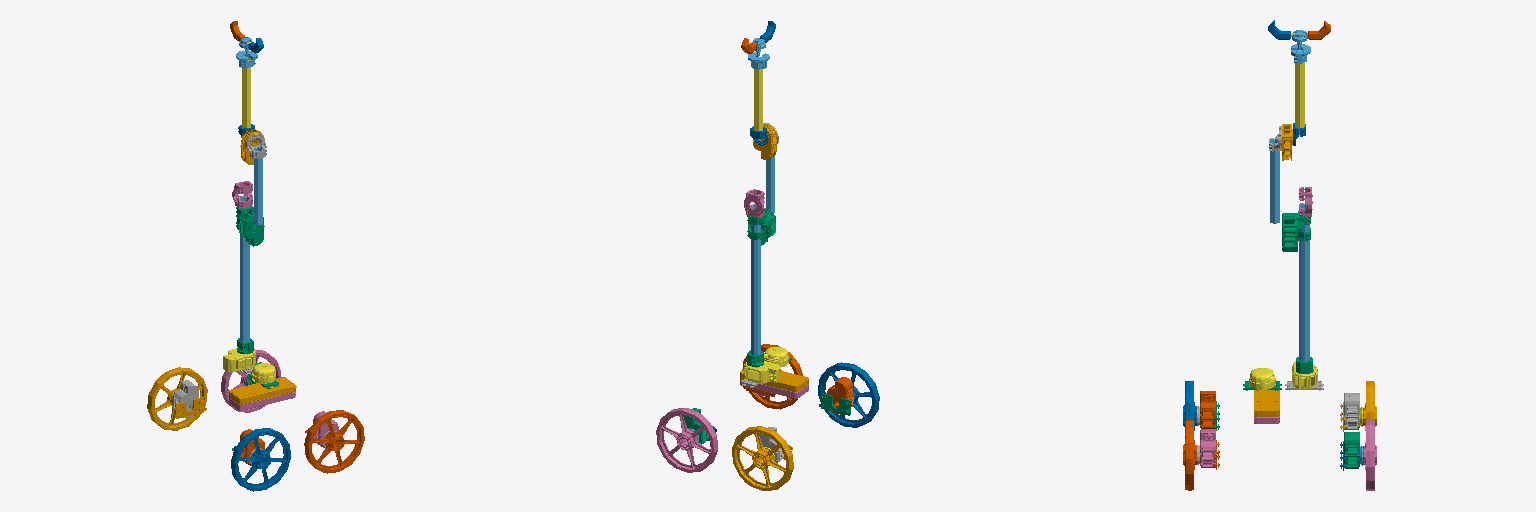
--- Facts derived from the render (not from the file) ---
The picture shows the robot from 3 angles, left to right: view 1: azimuth 30°, elevation 25°; view 2: azimuth 150°, elevation 25°; view 3: azimuth 270°, elevation 25°; orthographic projection.
Model StickBot_1 with 44 links and 43 joints (9 revolute, 1 continuous, 33 fixed), rooted at base_link, posed every joint at zero.
Links seen in each view (by area): view 1: pp_2074_08_1, pp_2074_08_3, pp_2074_08_2, tubepar_19Z_0, pp_2084_01_1, pp_2074_08_0, hebi_x8_16_12Z_0, tubepar_4Z_0, hebi_x8_16_20Z_0, tubepar_18Z_0; view 2: pp_2074_08_2, pp_2074_08_0, pp_2074_08_1, tubepar_19Z_0, hebi_x8_16_20Z_0, pp_2074_08_3, pp_2084_01_1, tubepar_18Z_0; view 3: tubepar_19Z_0, pp_2074_08_3, tubepar_4Z_0, pp_2074_08_0, pp_2084_01_1, tubepar_18Z_0, hebi_x8_16_12Z_0, hebi_x8_16_1Z_0, DiffDriveBase/RearRight, hebi_x8_16_16Z_0, hebi_x8_16_2Z_0.
Boxes of the visible links, bbox=[...] form: pp_2074_08_1: bbox=[231, 428, 290, 491]; pp_2074_08_3: bbox=[304, 410, 364, 473]; pp_2074_08_2: bbox=[147, 367, 207, 430]; tubepar_19Z_0: bbox=[240, 197, 249, 342]; pp_2084_01_1: bbox=[229, 377, 296, 404]; pp_2074_08_0: bbox=[221, 349, 280, 412]; hebi_x8_16_12Z_0: bbox=[239, 209, 264, 246]; tubepar_4Z_0: bbox=[254, 147, 262, 225]; hebi_x8_16_20Z_0: bbox=[223, 348, 255, 371]; tubepar_18Z_0: bbox=[242, 57, 250, 127]; pp_2074_08_2: bbox=[732, 426, 793, 490]; pp_2074_08_0: bbox=[656, 408, 717, 472]; pp_2074_08_1: bbox=[818, 362, 879, 427]; tubepar_19Z_0: bbox=[751, 206, 760, 354]; hebi_x8_16_20Z_0: bbox=[744, 361, 779, 383]; pp_2074_08_3: bbox=[742, 344, 802, 409]; pp_2084_01_1: bbox=[740, 369, 808, 391]; tubepar_18Z_0: bbox=[754, 69, 762, 130]; tubepar_19Z_0: bbox=[1299, 204, 1309, 361]; pp_2074_08_3: bbox=[1183, 419, 1196, 490]; tubepar_4Z_0: bbox=[1270, 139, 1279, 223]; pp_2074_08_0: bbox=[1363, 420, 1376, 490]; pp_2084_01_1: bbox=[1254, 390, 1279, 416]; tubepar_18Z_0: bbox=[1295, 56, 1304, 133]; hebi_x8_16_12Z_0: bbox=[1282, 213, 1297, 251]; hebi_x8_16_1Z_0: bbox=[1200, 429, 1215, 467]; DiffDriveBase/RearRight: bbox=[1200, 391, 1215, 428]; hebi_x8_16_16Z_0: bbox=[1344, 393, 1359, 429]; hebi_x8_16_2Z_0: bbox=[1344, 432, 1359, 468].
Bounding box of the posed robot: 0.4631 × 0.5495 × 1.4 m (x, y, z).
38 mesh visuals loaded from 28 distinct referenced files (24 binary STL); not drawn: 4 (reference not matched to a file when rendering).

URDF robot description (StickBot_1):
<?xml version="1.0" ?>
<robot name="StickBot_1">
  <!--Joints-->
  <joint name="base_link_to_a_2132_01_5Z_0" type="fixed">
    <parent link="base_link"/>
    <child link="a_2132_01_5Z_0"/>
  </joint>
  <joint name="a_2132_01_5Z_0_to_pp_2084_01_0" type="fixed">
    <parent link="a_2132_01_5Z_0"/>
    <child link="pp_2084_01_0"/>
    <origin rpy="0.0 -3.57068198074e-17 0.0" xyz="-5.78648230435e-16 -0.0375 0.0589153"/>
  </joint>
  <joint name="pp_2084_01_0_to_pp_2084_01_1" type="fixed">
    <parent link="pp_2084_01_0"/>
    <child link="pp_2084_01_1"/>
    <origin rpy="0.0 -0.0 6.22674078412e-50" xyz="8.12409083276e-19 -8.20472662559e-19 0.021"/>
  </joint>
  <joint name="a_2132_01_5Z_0_to_a_2043_01_0" type="fixed">
    <parent link="a_2132_01_5Z_0"/>
    <child link="a_2043_01_0"/>
    <origin rpy="0.0 -3.37465499326e-15 -6.12323399574e-17" xyz="-3.99679288865e-18 0.07 0.1317625"/>
  </joint>
  <joint name="a_2043_01_0_to_hebi_x8_16_20Z_0" type="fixed">
    <parent link="a_2043_01_0"/>
    <child link="hebi_x8_16_20Z_0"/>
    <origin rpy="0.0 -6.12323399574e-17 -3.14159265359" xyz="-2.68108607925e-17 -1.65959587488e-33 0.0047752"/>
  </joint>
  <joint name="Turret/Base/X8_16" type="revolute">
    <parent link="hebi_x8_16_20Z_0"/>
    <child link="a_2074_01_13Z_0"/>
    <origin rpy="0.0 1.18329135783e-30 -3.14159265359" xyz="-1.08634158951e-24 -2.84217094304e-17 0.04505"/>
    <axis xyz="-7.88860905221e-31 6.12323399574e-17 1.0"/>
    <dynamics damping="0.5" friction="0.06"/>
    <limit effort="100" lower="-2.14e9" upper="+2.14e9" velocity="100"/>
  </joint>
  <gazebo reference="Turret/Base/X8_16">
    <implicitSpringDamper>True</implicitSpringDamper>
  </gazebo>
  <joint name="a_2074_01_13Z_0_to_tubepar_19Z_0" type="fixed">
    <parent link="a_2074_01_13Z_0"/>
    <child link="tubepar_19Z_0"/>
    <origin rpy="-1.57079632679 -0.0 5.67339602409e-33" xyz="1.31411562278e-17 1.85506515547e-16 0.0125"/>
  </joint>
  <joint name="tubepar_19Z_0_to_a_2089_01_14Z_0" type="fixed">
    <parent link="tubepar_19Z_0"/>
    <child link="a_2089_01_14Z_0"/>
    <origin rpy="-6.12323399574e-17 -0.0 1.57079632679" xyz="2.01948391737e-31 -0.425 1.12103877146e-47"/>
  </joint>
  <joint name="a_2089_01_14Z_0_to_hebi_x8_16_12Z_0" type="fixed">
    <parent link="a_2089_01_14Z_0"/>
    <child link="hebi_x8_16_12Z_0"/>
    <origin rpy="3.14159265359 -1.18329136e-30 0.0" xyz="-0.014 -1.07158121718e-18 -0.02"/>
  </joint>
  <joint name="Arm/Shoulder/X8_16" type="revolute">
    <parent link="hebi_x8_16_12Z_0"/>
    <child link="a_2038_02_11Z_0"/>
    <origin rpy="1.51632209646e-62 1.18329136e-30 3.14159265359" xyz="-1.40799588069e-31 -2.91639355579e-17 0.04505"/>
    <axis xyz="-2.02888622329e-31 7.64209001933e-30 1.0"/>
    <dynamics damping="0.5" friction="0.06"/>
    <limit effort="100" lower="-2.14e9" upper="+2.14e9" velocity="100"/>
  </joint>
  <gazebo reference="Arm/Shoulder/X8_16">
    <implicitSpringDamper>True</implicitSpringDamper>
  </gazebo>
  <joint name="a_2038_02_11Z_0_to_tubepar_4Z_0" type="fixed">
    <parent link="a_2038_02_11Z_0"/>
    <child link="tubepar_4Z_0"/>
    <origin rpy="1.57079632679 -1.57079632679 0.0" xyz="0.0135 1.35017697283e-18 0.02"/>
  </joint>
  <joint name="tubepar_4Z_0_to_a_2039_02_9Z_0" type="fixed">
    <parent link="tubepar_4Z_0"/>
    <child link="a_2039_02_9Z_0"/>
    <origin rpy="1.57079632679 2.50240867501e-14 -1.57079632679" xyz="-2.18952885051e-47 -0.25 -9.99999998558e-24"/>
  </joint>
  <joint name="a_2039_02_9Z_0_to_hebi_x5_9_10Z_0" type="fixed">
    <parent link="a_2039_02_9Z_0"/>
    <child link="hebi_x5_9_10Z_0"/>
    <origin rpy="1.22464679915e-16 1.04083409e-17 2.50240867501e-14" xyz="0.014 3.34009046003e-16 0.02"/>
  </joint>
  <joint name="Arm/Elbow/X5_9" type="revolute">
    <parent link="hebi_x5_9_10Z_0"/>
    <child link="a_2038_02_17Z_0"/>
    <origin rpy="2.0448405016e-48 -2.77555756e-17 0.0" xyz="-3.23178984945e-19 -3.14850699177e-18 0.03105"/>
    <axis xyz="1.73472347e-17 5.71153784307e-30 1.0"/>
    <dynamics damping="0.6" friction="0.06"/>
    <limit effort="100" lower="-2.14e9" upper="+2.14e9" velocity="100"/>
  </joint>
  <gazebo reference="Arm/Elbow/X5_9">
    <implicitSpringDamper>True</implicitSpringDamper>
  </gazebo>
  <joint name="a_2038_02_17Z_0_to_tubepar_18Z_0" type="fixed">
    <parent link="a_2038_02_17Z_0"/>
    <child link="tubepar_18Z_0"/>
    <origin rpy="1.57079632679 -1.57079632679 0.0" xyz="0.0135 1.11373125466e-19 0.02"/>
  </joint>
  <joint name="tubepar_18Z_0_to_a_2119_01_15Z_0" type="fixed">
    <parent link="tubepar_18Z_0"/>
    <child link="a_2119_01_15Z_0"/>
    <origin rpy="1.57079632679 -4.58591992252e-48 0.0" xyz="2.7686186826e-18 -0.25 -1.00000003895e-23"/>
  </joint>
  <joint name="a_2119_01_15Z_0_to_hebi_x5_1_8Z_0" type="fixed">
    <parent link="a_2119_01_15Z_0"/>
    <child link="hebi_x5_1_8Z_0"/>
    <origin rpy="0.0 1.04083409e-17 -2.37066402887e-33" xyz="-2.255140511e-19 7.96030419446e-19 0.013"/>
  </joint>
  <joint name="Gripper/Wrist/X5_1" type="revolute">
    <parent link="hebi_x5_1_8Z_0"/>
    <child link="GRIPPER_CORE_0"/>
    <origin rpy="1.57079632679 2.77555756e-17 3.14159265359" xyz="-5.77052294832e-17 -3.14850699177e-18 0.03105"/>
    <axis xyz="-1.23259516441e-32 1.0 -2.09048139884e-29"/>
    <dynamics damping="0.5" friction="0.06"/>
    <limit effort="100" lower="-2.14e9" upper="+2.14e9" velocity="100"/>
  </joint>
  <gazebo reference="Gripper/Wrist/X5_1">
    <implicitSpringDamper>True</implicitSpringDamper>
  </gazebo>
  <joint name="Gripper_Joint_2" type="revolute">
    <parent link="GRIPPER_CORE_0"/>
    <child link="pm_2221_01_2_0"/>
    <origin rpy="3.14159265359 -0.0 3.14159265359" xyz="-0.0125 0.0115 2.19793342467e-19"/>
    <axis xyz="-4.0841087401e-47 -3.3134226533e-15 1.0"/>
    <dynamics damping="0.5" friction="0.06"/>
    <limit effort="100" lower="-2e6" upper="+2e6" velocity="100"/>
  </joint>
  <gazebo reference="Gripper_Joint_2">
    <implicitSpringDamper>True</implicitSpringDamper>
  </gazebo>
  <joint name="pm_2221_01_2_0_to_pm_2371_01_1_0" type="fixed">
    <parent link="pm_2221_01_2_0"/>
    <child link="pm_2371_01_1_0"/>
    <origin rpy="3.14159265359 6.12323399574e-17 1.57079632679" xyz="0.03 -1.05409565011e-34 -7.97872810003e-20"/>
  </joint>
  <joint name="Gripper_Joint_1" type="revolute">
    <parent link="GRIPPER_CORE_0"/>
    <child link="pm_2221_01_2_1"/>
    <origin rpy="0.0 -0.0 0.0" xyz="0.0125 0.0115 1.11379248701e-19"/>
    <axis xyz="-4.0841087401e-47 3.3134226533e-15 1.0"/>
    <dynamics damping="0.5" friction="0.06"/>
    <limit effort="100" lower="-2e6" upper="+2e6" velocity="100"/>
  </joint>
  <gazebo reference="Gripper_Joint_1">
    <implicitSpringDamper>True</implicitSpringDamper>
  </gazebo>
  <joint name="pm_2221_01_2_1_to_pm_2371_01_1_1" type="fixed">
    <parent link="pm_2221_01_2_1"/>
    <child link="pm_2371_01_1_1"/>
    <origin rpy="3.14159265359 6.12323399574e-17 1.57079632679" xyz="0.03 6.34213802085e-34 7.98072809997e-20"/>
  </joint>
  <joint name="tubepar_19Z_0_to_a_2089_01_6Z_0" type="fixed">
    <parent link="tubepar_19Z_0"/>
    <child link="a_2089_01_6Z_0"/>
    <origin rpy="-3.14159265359 -0.0 1.57079632679" xyz="2.01948391737e-31 -0.5 0.0"/>
  </joint>
  <joint name="a_2089_01_6Z_0_to_hebi_x5_9_7Z_0" type="fixed">
    <parent link="a_2089_01_6Z_0"/>
    <child link="hebi_x5_9_7Z_0"/>
    <origin rpy="-3.14159265359 -1.04083409e-17 3.14159265359" xyz="-0.014 -1.07158121718e-18 -0.02"/>
  </joint>
  <joint name="a_2132_01_5Z_0_to_a_2043_01_1" type="fixed">
    <parent link="a_2132_01_5Z_0"/>
    <child link="a_2043_01_1"/>
    <origin rpy="-1.57079632679 1.57079632679 0.0" xyz="0.13 0.1778 -0.025400756766"/>
  </joint>
  <joint name="a_2043_01_1_to_hebi_x8_16_2Z_0" type="fixed">
    <parent link="a_2043_01_1"/>
    <child link="hebi_x8_16_2Z_0"/>
    <origin rpy="1.49975978266e-32 -6.12323399574e-17 3.14159265359" xyz="4.67700711639e-17 9.38208807873e-16 0.0047752"/>
  </joint>
  <joint name="DiffDriveBase/FrontLeft/X8_16" type="revolute">
    <parent link="hebi_x8_16_2Z_0"/>
    <child link="pm_2155_01_0"/>
    <origin rpy="-7.49879891331e-33 1.18329135783e-30 3.14159265359" xyz="-2.75851691508e-18 -1.73288773498e-16 0.04505"/>
    <axis xyz="6.12323399574e-17 6.12323399574e-17 1.0"/>
    <dynamics damping="0.5" friction="0.06"/>
    <limit effort="100" lower="-2.14e9" upper="+2.14e9" velocity="100"/>
  </joint>
  <gazebo reference="DiffDriveBase/FrontLeft/X8_16">
    <implicitSpringDamper>True</implicitSpringDamper>
  </gazebo>
  <joint name="pm_2155_01_0_to_pp_2074_08_0" type="fixed">
    <parent link="pm_2155_01_0"/>
    <child link="pp_2074_08_0"/>
    <origin rpy="6.30106823421e-15 5.72153003001e-15 -0.78539816407" xyz="5.51091059616e-19 1.14237928781e-16 0.009"/>
  </joint>
  <joint name="a_2132_01_5Z_0_to_a_2043_01_2" type="fixed">
    <parent link="a_2132_01_5Z_0"/>
    <child link="a_2043_01_2"/>
    <origin rpy="1.57079632679 1.57079632679 0.0" xyz="-0.13 -0.1778 -0.023190956766"/>
  </joint>
  <joint name="a_2043_01_2_to_DiffDriveBase/RearRight" type="fixed">
    <parent link="a_2043_01_2"/>
    <child link="DiffDriveBase/RearRight"/>
    <origin rpy="-1.49975978266e-32 -6.12323399574e-17 3.14159265359" xyz="-6.52063401807e-18 8.5557524961e-17 0.0047752"/>
  </joint>
  <joint name="DiffDriveBase/RearRight" type="continuous">
    <parent link="DiffDriveBase/RearRight"/>
    <child link="pm_2155_01_1"/>
    <origin rpy="7.49879891331e-33 1.18329135783e-30 3.14159265359" xyz="-2.75851691508e-18 -3.11802263455e-17 0.04505"/>
    <axis xyz="6.12323399574e-17 6.12323399574e-17 1.0"/>
    <dynamics damping="0.5" friction="0.06"/>
    <limit effort="20" velocity="30"/>
    <dynamics damping="0.5" friction="0.5"/>
  </joint>
  <gazebo reference="DiffDriveBase/RearRight">
    <implicitSpringDamper>True</implicitSpringDamper>
  </gazebo>
  <joint name="pm_2155_01_1_to_pp_2074_08_1" type="fixed">
    <parent link="pm_2155_01_1"/>
    <child link="pp_2074_08_1"/>
    <origin rpy="-2.75783606318e-15 2.60231890953e-15 -0.785398163616" xyz="4.10380473842e-18 5.51091059616e-19 0.009"/>
  </joint>
  <joint name="a_2132_01_5Z_0_to_a_2043_01_3" type="fixed">
    <parent link="a_2132_01_5Z_0"/>
    <child link="a_2043_01_3"/>
    <origin rpy="-1.57079632679 1.57079632679 0.0" xyz="-0.13 0.1778 -0.025400756766"/>
  </joint>
  <joint name="a_2043_01_3_to_hebi_x8_16_16Z_0" type="fixed">
    <parent link="a_2043_01_3"/>
    <child link="hebi_x8_16_16Z_0"/>
    <origin rpy="-3.31635770885e-45 -6.12323399574e-17 3.14159265359" xyz="4.67700711639e-17 -9.37624014534e-16 0.0047752"/>
  </joint>
  <joint name="DiffDriveBase/RearLeft/X8_16" type="revolute">
    <parent link="hebi_x8_16_16Z_0"/>
    <child link="pm_2155_01_2"/>
    <origin rpy="1.65817885443e-45 1.18329135783e-30 3.14159265359" xyz="-2.75851691508e-18 1.10928320807e-16 0.04505"/>
    <axis xyz="6.12323399574e-17 6.12323399574e-17 1.0"/>
    <dynamics damping="0.5" friction="0.06"/>
    <limit effort="100" lower="-2.14e9" upper="+2.14e9" velocity="100"/>
  </joint>
  <gazebo reference="DiffDriveBase/RearLeft/X8_16">
    <implicitSpringDamper>True</implicitSpringDamper>
  </gazebo>
  <joint name="pm_2155_01_2_to_pp_2074_08_2" type="fixed">
    <parent link="pm_2155_01_2"/>
    <child link="pp_2074_08_2"/>
    <origin rpy="-3.61210627989e-15 6.93336817517e-16 -0.78539816364" xyz="5.51091059616e-19 -1.13135746662e-16 0.009"/>
  </joint>
  <joint name="a_2132_01_5Z_0_to_a_2043_01_4" type="fixed">
    <parent link="a_2132_01_5Z_0"/>
    <child link="a_2043_01_4"/>
    <origin rpy="0.0 -3.37465499326e-15 -6.12323399574e-17" xyz="-1.11022202463e-17 -0.05 0.1317625"/>
  </joint>
  <joint name="a_2043_01_4_to_rplidar_a2_0" type="fixed">
    <parent link="a_2043_01_4"/>
    <child link="rplidar_a2_0"/>
    <origin rpy="0.0 -6.12323399574e-17 -3.14159265359" xyz="-2.70533019508e-17 -1.6744411143e-33 0.0047752"/>
  </joint>
  <joint name="a_2132_01_5Z_0_to_a_2043_01_5" type="fixed">
    <parent link="a_2132_01_5Z_0"/>
    <child link="a_2043_01_5"/>
    <origin rpy="1.57079632679 1.57079632679 0.0" xyz="0.13 -0.1778 -0.023190956766"/>
  </joint>
  <joint name="a_2043_01_5_to_hebi_x8_16_1Z_0" type="fixed">
    <parent link="a_2043_01_5"/>
    <child link="hebi_x8_16_1Z_0"/>
    <origin rpy="-1.49975978266e-32 -6.12323399574e-17 3.14159265359" xyz="-2.96792033927e-18 8.5557524961e-17 0.0047752"/>
  </joint>
  <joint name="DiffDriveBase/FrontRight/X8_16" type="revolute">
    <parent link="hebi_x8_16_1Z_0"/>
    <child link="pm_2155_01_3"/>
    <origin rpy="7.49879891331e-33 1.18329135783e-30 3.14159265359" xyz="-2.75851691508e-18 -3.11802263455e-17 0.04505"/>
    <axis xyz="6.12323399574e-17 6.12323399574e-17 1.0"/>
    <dynamics damping="0.5" friction="0.06"/>
    <limit effort="100" lower="-2.14e9" upper="+2.14e9" velocity="100"/>
  </joint>
  <gazebo reference="DiffDriveBase/FrontRight/X8_16">
    <implicitSpringDamper>True</implicitSpringDamper>
  </gazebo>
  <joint name="pm_2155_01_3_to_pp_2074_08_3" type="fixed">
    <parent link="pm_2155_01_3"/>
    <child link="pp_2074_08_3"/>
    <origin rpy="6.83855313154e-16 4.65623150509e-15 -0.785398163616" xyz="5.51091059616e-19 5.51091059616e-19 0.009"/>
  </joint>
  <!--Links-->
  <link name="base_link">
    <!--Transformation from CyPhy2CAD global reference frame to base_link-->
    <CyPhy2CAD>
      <CADAssembly_metrics>
        <RotationMatrix>
          <Row>
            <Column Value="1.0"/>
            <Column Value="0.0"/>
            <Column Value="0.0"/>
          </Row>
          <Row>
            <Column Value="0.0"/>
            <Column Value="1.0"/>
            <Column Value="0.0"/>
          </Row>
          <Row>
            <Column Value="0.0"/>
            <Column Value="0.0"/>
            <Column Value="1.0"/>
          </Row>
        </RotationMatrix>
        <Translation X="1e-20" Y="1e-20" Z="1e-20"/>
      </CADAssembly_metrics>
    </CyPhy2CAD>
  </link>
  <link name="pm_2155_01_0">
    <visual>
      <origin rpy="0 0 0" xyz="-0.00099182129 -0.0071643037 -0.000236828"/>
      <geometry>
        <mesh filename="package://stickbot_generated_urdf/meshes/pm_2155_01_prt.stl" scale="0.001 0.001 0.001"/>
      </geometry>
    </visual>
    <collision>
      <origin rpy="0 0 0" xyz="-0.00099182129 -0.0071643037 -0.000236828"/>
      <geometry>
        <mesh filename="package://stickbot_generated_urdf/meshes/pm_2155_01_prt.stl" scale="0.001 0.001 0.001"/>
      </geometry>
    </collision>
    <inertial>
      <origin rpy="0 0 0" xyz="1.34037442319e-07 1.11051366795e-07 0.00499989583184"/>
      <mass value="0.052674179644478125"/>
      <inertia ixx="1.14786537077e-05" ixy="0.0" ixz="0.0" iyy="1.14786271535e-05" iyz="0.0" izz="2.18768701014e-05"/>
    </inertial>
  </link>
  <gazebo reference="pm_2155_01_0">
    <selfCollide>True</selfCollide>
    <material>Gazebo/Grey</material>
    <mu1>0.1</mu1>
    <mu2>0.1</mu2>
    <kp>10000000</kp>
    <kd>1</kd>
    <minDepth>0</minDepth>
    <maxVel>100</maxVel>
  </gazebo>
  <link name="a_2043_01_2">
    <visual>
      <origin rpy="0 0 0" xyz="-6.52063401807e-18 8.5557524961e-17 0.0047752"/>
      <geometry>
        <mesh filename="package://stickbot_generated_urdf/meshes/a_2043_01_prt.stl" scale="0.001 0.001 0.001"/>
      </geometry>
    </visual>
    <collision>
      <origin rpy="0 0 0" xyz="-6.52063401807e-18 8.5557524961e-17 0.0047752"/>
      <geometry>
        <mesh filename="package://stickbot_generated_urdf/meshes/a_2043_01_prt.stl" scale="0.001 0.001 0.001"/>
      </geometry>
    </collision>
    <inertial>
      <origin rpy="0 0 0" xyz="0.00139419949295 8.5557524961e-17 0.00184329510899"/>
      <mass value="0.06272938391183215"/>
      <inertia ixx="7.22571415296e-05" ixy="2.96268938105e-10" ixz="-5.68510520871e-08" iyy="1.34631068457e-05" iyz="0.0" izz="8.48613385518e-05"/>
    </inertial>
  </link>
  <gazebo reference="a_2043_01_2">
    <selfCollide>True</selfCollide>
    <material>Gazebo/Black</material>
    <mu1>0.1</mu1>
    <mu2>0.1</mu2>
    <kp>10000000</kp>
    <kd>1</kd>
    <minDepth>0.0005</minDepth>
    <maxVel>100</maxVel>
  </gazebo>
  <link name="tubepar_18Z_0">
    <visual>
      <origin rpy="0 0 0" xyz="2.7686186826e-18 -0.25 -1.61232343584e-23"/>
      <geometry>
        <mesh filename="package://stickbot_generated_urdf/meshes/tubepar_18z_prt.stl" scale="0.001 0.001 0.001"/>
      </geometry>
    </visual>
    <collision>
      <origin rpy="0 0 0" xyz="2.7686186826e-18 -0.25 -1.61232343584e-23"/>
      <geometry>
        <mesh filename="package://stickbot_generated_urdf/meshes/tubepar_18z_prt.stl" scale="0.001 0.001 0.001"/>
      </geometry>
    </collision>
    <inertial>
      <origin rpy="0 0 0" xyz="2.7686186826e-18 -0.125 -1.61232343584e-23"/>
      <mass value="0.10111189399303355"/>
      <inertia ixx="0.000538058313062" ixy="0.0" ixz="0.0" iyy="2.28677545314e-05" iyz="0.0" izz="0.00053805833723"/>
    </inertial>
  </link>
  <gazebo reference="tubepar_18Z_0">
    <selfCollide>True</selfCollide>
    <material>Gazebo/Grey</material>
    <mu1>0.05</mu1>
    <mu2>0.05</mu2>
    <kp>10000000</kp>
    <kd>1</kd>
    <minDepth>0.0005</minDepth>
    <maxVel>100</maxVel>
  </gazebo>
  <link name="a_2038_02_11Z_0">
    <visual>
      <origin rpy="0 0 0" xyz="4.47370696773e-33 1.35017697283e-18 -3.91812418982e-79"/>
      <geometry>
        <mesh filename="package://stickbot_generated_urdf/meshes/a_2038_02_11z_prt.stl" scale="0.001 0.001 0.001"/>
      </geometry>
    </visual>
    <collision>
      <origin rpy="0 0 0" xyz="4.47370696773e-33 1.35017697283e-18 -3.91812418982e-79"/>
      <geometry>
        <mesh filename="package://stickbot_generated_urdf/meshes/a_2038_02_11z_prt.stl" scale="0.001 0.001 0.001"/>
      </geometry>
    </collision>
    <inertial>
      <origin rpy="0 0 0" xyz="0.0176052907699 1.35017697283e-18 0.0142788404199"/>
      <mass value="0.059108249978877175"/>
      <inertia ixx="2.3632587043e-05" ixy="0.0" ixz="-3.93131579939e-06" iyy="2.03298829586e-05" iyz="0.0" izz="2.72912531732e-05"/>
    </inertial>
  </link>
  <gazebo reference="a_2038_02_11Z_0">
    <selfCollide>True</selfCollide>
    <material>Gazebo/Black</material>
    <mu1>0.1</mu1>
    <mu2>0.1</mu2>
    <kp>10000000</kp>
    <kd>1</kd>
    <minDepth>0.0005</minDepth>
    <maxVel>100</maxVel>
  </gazebo>
  <link name="pp_2074_08_3">
    <visual>
      <origin rpy="0 0 0" xyz="3.22410558223e-12 8.3502854391e-12 0.03175"/>
      <geometry>
        <mesh filename="package://stickbot_generated_urdf/meshes/pp_2074_08_prt.stl" scale="0.001 0.001 0.001"/>
      </geometry>
    </visual>
    <collision>
      <origin rpy="0 0 0" xyz="3.22410558223e-12 8.3502854391e-12 0.03175"/>
      <geometry>
        <mesh filename="package://stickbot_generated_urdf/meshes/pp_2074_08_prt.stl" scale="0.001 0.001 0.001"/>
      </geometry>
    </collision>
    <inertial>
      <origin rpy="0 0 0" xyz="-5.78059029415e-07 4.17617013729e-07 0.0190499354094"/>
      <mass value="0.7635860425050807"/>
      <inertia ixx="0.002680677325" ixy="0.0" ixz="0.0" iyy="0.00268067446492" iyz="0.0" izz="0.00527682335031"/>
    </inertial>
  </link>
  <gazebo reference="pp_2074_08_3">
    <selfCollide>True</selfCollide>
    <material>Gazebo/Black</material>
    <mu1>0.7</mu1>
    <mu2>0.7</mu2>
    <kp>1000000</kp>
    <kd>1</kd>
    <minDepth>0.001</minDepth>
    <maxVel>50</maxVel>
  </gazebo>
  <link name="a_2089_01_6Z_0">
    <visual>
      <origin rpy="0 0 0" xyz="-0.014 -1.07158121718e-18 -0.0175"/>
      <geometry>
        <mesh filename="package://stickbot_generated_urdf/meshes/a_2089_01_6z_prt.stl" scale="0.001 0.001 0.001"/>
      </geometry>
    </visual>
    <collision>
      <origin rpy="0 0 0" xyz="-0.014 -1.07158121718e-18 -0.0175"/>
      <geometry>
        <mesh filename="package://stickbot_generated_urdf/meshes/a_2089_01_6z_prt.stl" scale="0.001 0.001 0.001"/>
      </geometry>
    </collision>
    <inertial>
      <origin rpy="0 0 0" xyz="-0.0141834319891 1.2390345004e-07 -0.00675469816879"/>
      <mass value="0.13694950430241026"/>
      <inertia ixx="6.44476746049e-05" ixy="0.0" ixz="2.64849744516e-08" iyy="8.71842240473e-05" iyz="0.0" izz="0.000115762185767"/>
    </inertial>
  </link>
  <gazebo reference="a_2089_01_6Z_0">
    <selfCollide>True</selfCollide>
    <material>Gazebo/Grey</material>
    <mu1>0.1</mu1>
    <mu2>0.1</mu2>
    <kp>10000000</kp>
    <kd>1</kd>
    <minDepth>0.0005</minDepth>
    <maxVel>100</maxVel>
  </gazebo>
  <link name="pm_2155_01_1">
    <visual>
      <origin rpy="0 0 0" xyz="-0.00099182129 -0.0071643037 -0.000236828"/>
      <geometry>
        <mesh filename="package://stickbot_generated_urdf/meshes/pm_2155_01_prt.stl" scale="0.001 0.001 0.001"/>
      </geometry>
    </visual>
    <collision>
      <origin rpy="0 0 0" xyz="-0.00099182129 -0.0071643037 -0.000236828"/>
      <geometry>
        <mesh filename="package://stickbot_generated_urdf/meshes/pm_2155_01_prt.stl" scale="0.001 0.001 0.001"/>
      </geometry>
    </collision>
    <inertial>
      <origin rpy="0 0 0" xyz="1.34037442321e-07 1.11051366681e-07 0.00499989583184"/>
      <mass value="0.052674179644478125"/>
      <inertia ixx="1.14786537077e-05" ixy="0.0" ixz="0.0" iyy="1.14786271535e-05" iyz="0.0" izz="2.18768701014e-05"/>
    </inertial>
  </link>
  <gazebo reference="pm_2155_01_1">
    <selfCollide>True</selfCollide>
    <material>Gazebo/Grey</material>
    <mu1>0.1</mu1>
    <mu2>0.1</mu2>
    <kp>10000000</kp>
    <kd>1</kd>
    <minDepth>0</minDepth>
    <maxVel>100</maxVel>
  </gazebo>
  <link name="hebi_x5_9_10Z_0">
    <visual>
      <origin rpy="0 0 0" xyz="-1.561251135e-19 -2.49799181e-18 0.015"/>
      <geometry>
        <mesh filename="package://stickbot_generated_urdf/meshes/hebi_x5_9_10z_prt.stl" scale="0.001 0.001 0.001"/>
      </geometry>
    </visual>
    <collision>
      <origin rpy="0 0 0" xyz="-1.561251135e-19 -2.49799181e-18 0.015"/>
      <geometry>
        <mesh filename="package://stickbot_generated_urdf/meshes/hebi_x5_9_10z_prt.stl" scale="0.001 0.001 0.001"/>
      </geometry>
    </collision>
    <inertial>
      <origin rpy="0 0 0" xyz="-0.0142019322139 -0.00151173442654 0.0150064707722"/>
      <mass value="0.3601223934133934"/>
      <inertia ixx="0.000149654657264" ixy="-2.029262623e-05" ixz="1.36324075072e-08" iyy="0.000259599603648" iyz="1.37817063293e-07" izz="0.000355190384437"/>
    </inertial>
  </link>
  <gazebo reference="hebi_x5_9_10Z_0">
    <selfCollide>True</selfCollide>
    <material>Gazebo/Red</material>
    <mu1>0.1</mu1>
    <mu2>0.1</mu2>
    <kp>10000000</kp>
    <kd>1</kd>
    <minDepth>0.001</minDepth>
    <maxVel>100</maxVel>
    <sensor name="Arm/Elbow/imu_sensor" type="imu">
      <always_on>true</always_on>
      <update_rate>100</update_rate>
      <visualize>true</visualize>
      <plugin filename="libgazebo_ros_imu_sensor.so" name="imu_plugin">
        <topicName>/hebiros_gazebo_plugin/imu/Arm/Elbow</topicName>
        <bodyName>Arm/Elbow/imu_link</bodyName>
        <updateRateHZ>10.0</updateRateHZ>
        <gaussianNoise>0.0</gaussianNoise>
        <xyzOffset>0.025 0 0.003</xyzOffset>
        <rpyOffset>0 0 0</rpyOffset>
        <frameName>Arm/Elbow/imu_link</frameName>
      </plugin>
      <pose>0 0 0 0 0 0</pose>
    </sensor>
  </gazebo>
  <link name="GRIPPER_CORE_0">
    <visual>
      <origin rpy="0 0 0" xyz="-5.68434188608e-17 7.28268239974e-34 2.19793342467e-19"/>
      <geometry>
        <mesh filename="package://stickbot_generated_urdf/meshes/gripper_core_prt.stl" scale="0.001 0.001 0.001"/>
      </geometry>
    </visual>
    <collision>
      <origin rpy="0 0 0" xyz="-5.68434188608e-17 7.28268239974e-34 2.19793342467e-19"/>
      <geometry>
        <mesh filename="package://stickbot_generated_urdf/meshes/gripper_core_prt.stl" scale="0.001 0.001 0.001"/>
      </geometry>
    </collision>
    <inertial>
      <origin rpy="0 0 0" xyz="-5.68434188608e-17 0.00701204083451 2.19793342467e-19"/>
      <mass value="0.07306201103685102"/>
      <inertia ixx="1.28870526185e-05" ixy="0.0" ixz="0.0" iyy="1.41257455022e-05" iyz="0.0" izz="1.18996295578e-05"/>
    </inertial>
  </link>
  <gazebo reference="GRIPPER_CORE_0">
    <selfCollide>True</selfCollide>
    <material>Gazebo/Grey</material>
    <mu1>0.05</mu1>
    <mu2>0.05</mu2>
    <kp>10000000</kp>
    <kd>1</kd>
    <minDepth>0.0005</minDepth>
    <maxVel>100</maxVel>
  </gazebo>
  <link name="a_2074_01_13Z_0">
    <visual>
      <origin rpy="0 0 0" xyz="-4.41762106924e-32 5.58606398045e-17 -0.01605"/>
      <geometry>
        <mesh filename="package://stickbot_generated_urdf/meshes/a_2074_01_13z_prt.stl" scale="0.001 0.001 0.001"/>
      </geometry>
    </visual>
    <collision>
      <origin rpy="0 0 0" xyz="-4.41762106924e-32 5.58606398045e-17 -0.01605"/>
      <geometry>
        <mesh filename="package://stickbot_generated_urdf/meshes/a_2074_01_13z_prt.stl" scale="0.001 0.001 0.001"/>
      </geometry>
    </collision>
    <inertial>
      <origin rpy="0 0 0" xyz="0.00396895473481 5.58606398045e-17 0.0148168983831"/>
      <mass value="0.09157149120222269"/>
      <inertia ixx="3.1887902612e-05" ixy="0.0" ixz="-1.15786238257e-06" iyy="2.62794552352e-05" iyz="0.0" izz="3.69392561661e-05"/>
    </inertial>
  </link>
  <gazebo reference="a_2074_01_13Z_0">
    <selfCollide>True</selfCollide>
    <material>Gazebo/Grey</material>
    <mu1>0.1</mu1>
    <mu2>0.1</mu2>
    <kp>10000000</kp>
    <kd>1</kd>
    <minDepth>0.0005</minDepth>
    <maxVel>100</maxVel>
  </gazebo>
  <link name="hebi_x5_1_8Z_0">
    <visual>
      <origin rpy="0 0 0" xyz="-5.72597524948e-17 -2.49799181e-18 0.015"/>
      <geometry>
        <mesh filename="package://stickbot_generated_urdf/meshes/hebi_x5_1_8z_prt.stl" scale="0.001 0.001 0.001"/>
      </geometry>
    </visual>
    <collision>
      <origin rpy="0 0 0" xyz="-5.72597524948e-17 -2.49799181e-18 0.015"/>
      <geometry>
        <mesh filename="package://stickbot_generated_urdf/meshes/hebi_x5_1_8z_prt.stl" scale="0.001 0.001 0.001"/>
      </geometry>
    </collision>
    <inertial>
      <origin rpy="0 0 0" xyz="-0.0142019322139 -0.00151173442654 0.0150064707722"/>
      <mass value="0.31314990731599424"/>
      <inertia ixx="0.000130134484577" ixy="-1.76457619391e-05" ixz="1.18542673976e-08" iyy="0.00022573878578" iyz="1.19840924602e-07" izz="0.000308861203858"/>
    </inertial>
  </link>
  <gazebo reference="hebi_x5_1_8Z_0">
    <selfCollide>True</selfCollide>
    <material>Gazebo/Red</material>
    <mu1>0.1</mu1>
    <mu2>0.1</mu2>
    <kp>10000000</kp>
    <kd>1</kd>
    <minDepth>0.001</minDepth>
    <maxVel>100</maxVel>
    <sensor name="Gripper/Wrist/imu_sensor" type="imu">
      <always_on>true</always_on>
      <update_rate>100</update_rate>
      <visualize>true</visualize>
      <plugin filename="libgazebo_ros_imu_sensor.so" name="imu_plugin">
        <topicName>/hebiros_gazebo_plugin/imu/Gripper/Wrist</topicName>
        <bodyName>Gripper/Wrist/imu_link</bodyName>
        <updateRateHZ>10.0</updateRateHZ>
        <gaussianNoise>0.0</gaussianNoise>
        <xyzOffset>0.025 0 0.003</xyzOffset>
        <rpyOffset>0 0 0</rpyOffset>
        <frameName>Gripper/Wrist/imu_link</frameName>
      </plugin>
      <pose>0 0 0 0 0 0</pose>
    </sensor>
  </gazebo>
  <link name="pp_2074_08_1">
    <visual>
      <origin rpy="0 0 0" xyz="-3.22450467029e-12 -8.35106996524e-12 0.03175"/>
      <geometry>
        <mesh filename="package://stickbot_generated_urdf/meshes/pp_2074_08_prt.stl" scale="0.001 0.001 0.001"/>
      </geometry>
    </visual>
    <collision>
      <origin rpy="0 0 0" xyz="-3.22450467029e-12 -8.35106996524e-12 0.03175"/>
      <geometry>
        <mesh filename="package://stickbot_generated_urdf/meshes/pp_2074_08_prt.stl" scale="0.001 0.001 0.001"/>
      </geometry>
    </collision>
    <inertial>
      <origin rpy="0 0 0" xyz="-5.78065478025e-07 4.17600312374e-07 0.0190499354094"/>
      <mass value="0.7635860425050807"/>
      <inertia ixx="0.002680677325" ixy="0.0" ixz="0.0" iyy="0.00268067446492" iyz="0.0" izz="0.00527682335031"/>
    </inertial>
  </link>
  <gazebo reference="pp_2074_08_1">
    <selfCollide>True</selfCollide>
    <material>Gazebo/Black</material>
    <mu1>0.7</mu1>
    <mu2>0.7</mu2>
    <kp>1000000</kp>
    <kd>1</kd>
    <minDepth>0.001</minDepth>
    <maxVel>50</maxVel>
  </gazebo>
  <link name="DiffDriveBase/RearRight">
    <visual>
      <origin rpy="0 0 0" xyz="-1.56191985342e-17 -1.40834381902e-18 0.023"/>
      <geometry>
        <mesh filename="package://stickbot_generated_urdf/meshes/hebi_x8_16_3z_prt.stl" scale="0.001 0.001 0.001"/>
      </geometry>
    </visual>
    <collision>
      <origin rpy="0 0 0" xyz="-1.56191985342e-17 -1.40834381902e-18 0.023"/>
      <geometry>
        <mesh filename="package://stickbot_generated_urdf/meshes/hebi_x8_16_3z_prt.stl" scale="0.001 0.001 0.001"/>
      </geometry>
    </collision>
    <inertial>
      <origin rpy="0 0 0" xyz="0.014563817146 0.00162514634779 0.0219127754611"/>
      <mass value="5.000268491400921"/>
      <inertia ixx="0.00252497997304" ixy="-0.000307494501523" ixz="2.34381592723e-05" iyy="0.00412897878772" iyz="6.0494430943e-06" izz="0.0050506140471"/>
    </inertial>
  </link>
  <gazebo reference="DiffDriveBase/RearRight">
    <selfCollide>True</selfCollide>
    <material>Gazebo/Red</material>
    <mu1>0.1</mu1>
    <mu2>0.1</mu2>
    <kp>10000000</kp>
    <kd>1</kd>
    <minDepth>0.001</minDepth>
    <maxVel>100</maxVel>
    <sensor name="DiffDriveBase/RearRight/imu_sensor" type="imu">
      <always_on>true</always_on>
      <update_rate>100</update_rate>
      <visualize>true</visualize>
      <plugin filename="libgazebo_ros_imu_sensor.so" name="imu_plugin">
        <topicName>/hebiros_gazebo_plugin/imu/DiffDriveBase/RearRight</topicName>
        <bodyName>DiffDriveBase/RearRight/imu_link</bodyName>
        <updateRateHZ>10.0</updateRateHZ>
        <gaussianNoise>0.0</gaussianNoise>
        <xyzOffset>0.025 0 0.003</xyzOffset>
        <rpyOffset>0 0 0</rpyOffset>
        <frameName>DiffDriveBase/RearRight/imu_link</frameName>
      </plugin>
      <pose>0 0 0 0 0 0</pose>
    </sensor>
  </gazebo>

  <link name="HEBI_SIM/DiffDriveBase/RearRight/X8_3">
    <visual>
      <origin rpy="  0 0 0" xyz="-0.03 0 0.02"/>
      <geometry>
        <sphere radius="0.001"  />
      </geometry>
    </visual>
    <inertial>
      <mass value="0.001"  />
      <origin rpy="0 0 0" xyz="0 0 0"/>
      <inertia ixx="0.000001"   ixy="0" ixz="0" iyy="0.000001" iyz="0" izz="0.000001"/>
    </inertial>
  </link>
  <joint name="HEBI_SIM_JOINT/DiffDriveBase/RearRight" type="fixed">
    <parent link="DiffDriveBase/RearRight"/>
    <child link="HEBI_SIM/DiffDriveBase/RearRight/X8_3"  />
    <origin rpy="0 0 0" xyz="0 0 0"/>
  </joint>
  <gazebo reference="HEBI_SIM_JOINT/DiffDriveBase/RearRight">
    <disableFixedJointLumping>true</disableFixedJointLumping>
    <preserveFixedJoint>true</preserveFixedJoint>
  </gazebo>

  <link name="pm_2155_01_3">
    <visual>
      <origin rpy="0 0 0" xyz="-0.00099182129 -0.0071643037 -0.000236828"/>
      <geometry>
        <mesh filename="package://stickbot_generated_urdf/meshes/pm_2155_01_prt.stl" scale="0.001 0.001 0.001"/>
      </geometry>
    </visual>
    <collision>
      <origin rpy="0 0 0" xyz="-0.00099182129 -0.0071643037 -0.000236828"/>
      <geometry>
        <mesh filename="package://stickbot_generated_urdf/meshes/pm_2155_01_prt.stl" scale="0.001 0.001 0.001"/>
      </geometry>
    </collision>
    <inertial>
      <origin rpy="0 0 0" xyz="1.34037442317e-07 1.11051366681e-07 0.00499989583184"/>
      <mass value="0.052674179644478125"/>
      <inertia ixx="1.14786537077e-05" ixy="0.0" ixz="0.0" iyy="1.14786271535e-05" iyz="0.0" izz="2.18768701014e-05"/>
    </inertial>
  </link>
  <gazebo reference="pm_2155_01_3">
    <selfCollide>True</selfCollide>
    <material>Gazebo/Grey</material>
    <mu1>0.1</mu1>
    <mu2>0.1</mu2>
    <kp>10000000</kp>
    <kd>1</kd>
    <minDepth>0</minDepth>
    <maxVel>100</maxVel>
  </gazebo>
  <link name="pp_2074_08_2">
    <visual>
      <origin rpy="0 0 0" xyz="7.44914775704e-12 1.23763530372e-11 0.03175"/>
      <geometry>
        <mesh filename="package://stickbot_generated_urdf/meshes/pp_2074_08_prt.stl" scale="0.001 0.001 0.001"/>
      </geometry>
    </visual>
    <collision>
      <origin rpy="0 0 0" xyz="7.44914775704e-12 1.23763530372e-11 0.03175"/>
      <geometry>
        <mesh filename="package://stickbot_generated_urdf/meshes/pp_2074_08_prt.stl" scale="0.001 0.001 0.001"/>
      </geometry>
    </collision>
    <inertial>
      <origin rpy="0 0 0" xyz="-5.78054804372e-07 4.17621039797e-07 0.0190499354094"/>
      <mass value="0.7635860425050807"/>
      <inertia ixx="0.002680677325" ixy="0.0" ixz="0.0" iyy="0.00268067446492" iyz="0.0" izz="0.00527682335031"/>
    </inertial>
  </link>
  <gazebo reference="pp_2074_08_2">
    <selfCollide>True</selfCollide>
    <material>Gazebo/Black</material>
    <mu1>0.7</mu1>
    <mu2>0.7</mu2>
    <kp>1000000</kp>
    <kd>1</kd>
    <minDepth>0.001</minDepth>
    <maxVel>50</maxVel>
  </gazebo>
  <link name="a_2119_01_15Z_0">
    <visual>
      <origin rpy="0 0 0" xyz="-1.387778776e-19 4.89862596425e-19 0.008"/>
      <geometry>
        <mesh filename="package://stickbot_generated_urdf/meshes/a_2119_01_15z_prt.stl" scale="0.001 0.001 0.001"/>
      </geometry>
    </visual>
    <collision>
      <origin rpy="0 0 0" xyz="-1.387778776e-19 4.89862596425e-19 0.008"/>
      <geometry>
        <mesh filename="package://stickbot_generated_urdf/meshes/a_2119_01_15z_prt.stl" scale="0.001 0.001 0.001"/>
      </geometry>
    </collision>
    <inertial>
      <origin rpy="0 0 0" xyz="0.00301190044182 -1.414023009e-07 0.000946994921506"/>
      <mass value="0.10507349679426449"/>
      <inertia ixx="4.21942217795e-05" ixy="0.0" ixz="-1.02460860558e-06" iyy="3.23407137234e-05" iyz="0.0" izz="5.18723516349e-05"/>
    </inertial>
  </link>
  <gazebo reference="a_2119_01_15Z_0">
    <selfCollide>True</selfCollide>
    <material>Gazebo/Grey</material>
    <mu1>0.1</mu1>
    <mu2>0.1</mu2>
    <kp>10000000</kp>
    <kd>1</kd>
    <minDepth>0.0005</minDepth>
    <maxVel>100</maxVel>
  </gazebo>
  <link name="a_2043_01_4">
    <visual>
      <origin rpy="0 0 0" xyz="-2.70533019508e-17 -1.6744411143e-33 0.0047752"/>
      <geometry>
        <mesh filename="package://stickbot_generated_urdf/meshes/a_2043_01_prt.stl" scale="0.001 0.001 0.001"/>
      </geometry>
    </visual>
    <collision>
      <origin rpy="0 0 0" xyz="-2.70533019508e-17 -1.6744411143e-33 0.0047752"/>
      <geometry>
        <mesh filename="package://stickbot_generated_urdf/meshes/a_2043_01_prt.stl" scale="0.001 0.001 0.001"/>
      </geometry>
    </collision>
    <inertial>
      <origin rpy="0 0 0" xyz="0.00139419949295 -1.6744411143e-33 0.00184329510899"/>
      <mass value="0.06272938391183215"/>
      <inertia ixx="7.22571415296e-05" ixy="2.96268938105e-10" ixz="-5.68510520871e-08" iyy="1.34631068457e-05" iyz="0.0" izz="8.48613385518e-05"/>
    </inertial>
  </link>
  <gazebo reference="a_2043_01_4">
    <selfCollide>True</selfCollide>
    <material>Gazebo/Black</material>
    <mu1>0.1</mu1>
    <mu2>0.1</mu2>
    <kp>10000000</kp>
    <kd>1</kd>
    <minDepth>0.0005</minDepth>
    <maxVel>100</maxVel>
  </gazebo>
  <link name="pm_2221_01_2_1">
    <visual>
      <origin rpy="0 0 0" xyz="-3.25941613854e-66 2.64435252763e-34 7.98072809997e-20"/>
      <geometry>
        <mesh filename="package://stickbot_generated_urdf/meshes/pm_2221_01_2_prt.stl" scale="0.001 0.001 0.001"/>
      </geometry>
    </visual>
    <collision>
      <origin rpy="0 0 0" xyz="-3.25941613854e-66 2.64435252763e-34 7.98072809997e-20"/>
      <geometry>
        <mesh filename="package://stickbot_generated_urdf/meshes/pm_2221_01_2_prt.stl" scale="0.001 0.001 0.001"/>
      </geometry>
    </collision>
    <inertial>
      <origin rpy="0 0 0" xyz="0.0135079945905 4.91007296113e-05 7.98072809997e-20"/>
      <mass value="0.007793553528523309"/>
      <inertia ixx="1.38905229874e-07" ixy="5.90681572689e-09" ixz="0.0" iyy="7.98676471223e-07" iyz="0.0" izz="7.51799472482e-07"/>
    </inertial>
  </link>
  <gazebo reference="pm_2221_01_2_1">
    <selfCollide>True</selfCollide>
    <material>Gazebo/Grey</material>
    <mu1>0.05</mu1>
    <mu2>0.05</mu2>
    <kp>10000000</kp>
    <kd>1</kd>
    <minDepth>0.0005</minDepth>
    <maxVel>100</maxVel>
  </gazebo>
  <link name="pm_2371_01_1_1">
    <visual>
      <origin rpy="0 0 0" xyz="0.011 0.011 2.65057264154e-31"/>
      <geometry>
        <mesh filename="package://stickbot_generated_urdf/meshes/pm_2371_01_1_asm.stl" scale="0.001 0.001 0.001"/>
      </geometry>
    </visual>
    <collision>
      <origin rpy="0 0 0" xyz="0.011 0.011 2.65057264154e-31"/>
      <geometry>
        <mesh filename="package://stickbot_generated_urdf/meshes/pm_2371_01_1_asm.stl" scale="0.001 0.001 0.001"/>
      </geometry>
    </collision>
    <inertial>
      <origin rpy="0 0 0" xyz="0.00838478055884 0.0153197434772 2.65057264154e-31"/>
      <mass value="0.036272287461635425"/>
      <inertia ixx="1.302744478e-05" ixy="-5.29971778044e-06" ixz="2.56987932861e-10" iyy="6.68583016907e-06" iyz="-2.14679110174e-10" izz="1.7215751985e-05"/>
    </inertial>
  </link>
  <gazebo reference="pm_2371_01_1_1">
    <selfCollide>True</selfCollide>
    <material>Gazebo/Grey</material>
    <mu1>1.0</mu1>
    <mu2>1.0</mu2>
    <kp>10000000</kp>
    <kd>1</kd>
    <minDepth>0.002</minDepth>
    <maxVel>0</maxVel>
  </gazebo>
  <link name="pm_2371_01_1_0">
    <visual>
      <origin rpy="0 0 0" xyz="0.011 0.011 6.18466949693e-31"/>
      <geometry>
        <mesh filename="package://stickbot_generated_urdf/meshes/pm_2371_01_1_asm.stl" scale="0.001 0.001 0.001"/>
      </geometry>
    </visual>
    <collision>
      <origin rpy="0 0 0" xyz="0.011 0.011 6.18466949693e-31"/>
      <geometry>
        <mesh filename="package://stickbot_generated_urdf/meshes/pm_2371_01_1_asm.stl" scale="0.001 0.001 0.001"/>
      </geometry>
    </collision>
    <inertial>
      <origin rpy="0 0 0" xyz="0.00838478055884 0.0153197434772 6.18466949693e-31"/>
      <mass value="0.036272287461635425"/>
      <inertia ixx="1.302744478e-05" ixy="-5.29971778044e-06" ixz="2.56987932861e-10" iyy="6.68583016907e-06" iyz="-2.14679110174e-10" izz="1.7215751985e-05"/>
    </inertial>
  </link>
  <gazebo reference="pm_2371_01_1_0">
    <selfCollide>True</selfCollide>
    <material>Gazebo/Grey</material>
    <mu1>1.0</mu1>
    <mu2>1.0</mu2>
    <kp>10000000</kp>
    <kd>1</kd>
    <minDepth>0.002</minDepth>
    <maxVel>0</maxVel>
  </gazebo>
  <link name="hebi_x8_16_1Z_0">
    <visual>
      <origin rpy="0 0 0" xyz="-1.56191985342e-17 -1.40834381902e-18 0.023"/>
      <geometry>
        <mesh filename="package://stickbot_generated_urdf/meshes/hebi_x8_16_1z_prt.stl" scale="0.001 0.001 0.001"/>
      </geometry>
    </visual>
    <collision>
      <origin rpy="0 0 0" xyz="-1.56191985342e-17 -1.40834381902e-18 0.023"/>
      <geometry>
        <mesh filename="package://stickbot_generated_urdf/meshes/hebi_x8_16_1z_prt.stl" scale="0.001 0.001 0.001"/>
      </geometry>
    </collision>
    <inertial>
      <origin rpy="0 0 0" xyz="0.014563817146 0.00162514634779 0.0219127754611"/>
      <mass value="5.000268491400921"/>
      <inertia ixx="0.00252497997304" ixy="-0.000307494501523" ixz="2.34381592723e-05" iyy="0.00412897878772" iyz="6.0494430943e-06" izz="0.0050506140471"/>
    </inertial>
  </link>
  <gazebo reference="hebi_x8_16_1Z_0">
    <selfCollide>True</selfCollide>
    <material>Gazebo/Red</material>
    <mu1>0.1</mu1>
    <mu2>0.1</mu2>
    <kp>10000000</kp>
    <kd>1</kd>
    <minDepth>0.001</minDepth>
    <maxVel>100</maxVel>
    <sensor name="DiffDriveBase/FrontRight/imu_sensor" type="imu">
      <always_on>true</always_on>
      <update_rate>100</update_rate>
      <visualize>true</visualize>
      <plugin filename="libgazebo_ros_imu_sensor.so" name="imu_plugin">
        <topicName>/hebiros_gazebo_plugin/imu/DiffDriveBase/FrontRight</topicName>
        <bodyName>DiffDriveBase/FrontRight/imu_link</bodyName>
        <updateRateHZ>10.0</updateRateHZ>
        <gaussianNoise>0.0</gaussianNoise>
        <xyzOffset>0.025 0 0.003</xyzOffset>
        <rpyOffset>0 0 0</rpyOffset>
        <frameName>DiffDriveBase/FrontRight/imu_link</frameName>
      </plugin>
      <pose>0 0 0 0 0 0</pose>
    </sensor>
  </gazebo>
  <link name="a_2043_01_0">
    <visual>
      <origin rpy="0 0 0" xyz="-2.68108607925e-17 -1.65959587488e-33 0.0047752"/>
      <geometry>
        <mesh filename="package://stickbot_generated_urdf/meshes/a_2043_01_prt.stl" scale="0.001 0.001 0.001"/>
      </geometry>
    </visual>
    <collision>
      <origin rpy="0 0 0" xyz="-2.68108607925e-17 -1.65959587488e-33 0.0047752"/>
      <geometry>
        <mesh filename="package://stickbot_generated_urdf/meshes/a_2043_01_prt.stl" scale="0.001 0.001 0.001"/>
      </geometry>
    </collision>
    <inertial>
      <origin rpy="0 0 0" xyz="0.00139419949295 -1.65959587488e-33 0.00184329510899"/>
      <mass value="0.06272938391183215"/>
      <inertia ixx="7.22571415296e-05" ixy="2.96268938105e-10" ixz="-5.68510520871e-08" iyy="1.34631068457e-05" iyz="0.0" izz="8.48613385518e-05"/>
    </inertial>
  </link>
  <gazebo reference="a_2043_01_0">
    <selfCollide>True</selfCollide>
    <material>Gazebo/Black</material>
    <mu1>0.1</mu1>
    <mu2>0.1</mu2>
    <kp>10000000</kp>
    <kd>1</kd>
    <minDepth>0.0005</minDepth>
    <maxVel>100</maxVel>
  </gazebo>
  <link name="pp_2084_01_1">
    <visual>
      <origin rpy="0 0 0" xyz="-6.12323396889e-24 -8.54233987271e-57 2.18641211966e-40"/>
      <geometry>
        <mesh filename="package://stickbot_generated_urdf/meshes/pp_2084_01_prt.stl" scale="0.001 0.001 0.001"/>
      </geometry>
    </visual>
    <collision>
      <origin rpy="0 0 0" xyz="-6.12323396889e-24 -8.54233987271e-57 2.18641211966e-40"/>
      <geometry>
        <mesh filename="package://stickbot_generated_urdf/meshes/pp_2084_01_prt.stl" scale="0.001 0.001 0.001"/>
      </geometry>
    </collision>
    <inertial>
      <origin rpy="0 0 0" xyz="8.91874378258e-05 1.84543304597e-05 0.0105126561021"/>
      <mass value="0.6195229072329779"/>
      <inertia ixx="0.000303103586737" ixy="1.97180265393e-06" ixz="0.0" iyy="0.00207546071735" iyz="8.31436607584e-09" izz="0.00233313205399"/>
    </inertial>
  </link>
  <gazebo reference="pp_2084_01_1">
    <selfCollide>True</selfCollide>
    <material>Gazebo/Black</material>
    <mu1>0.1</mu1>
    <mu2>0.1</mu2>
    <kp>10000000</kp>
    <kd>1</kd>
    <minDepth>0.0005</minDepth>
    <maxVel>100</maxVel>
  </gazebo>
  <link name="tubepar_19Z_0">
    <visual>
      <origin rpy="0 0 0" xyz="2.01948391737e-31 -0.5 0.0"/>
      <geometry>
        <mesh filename="package://stickbot_generated_urdf/meshes/tubepar_19z_prt.stl" scale="0.001 0.001 0.001"/>
      </geometry>
    </visual>
    <collision>
      <origin rpy="0 0 0" xyz="2.01948391737e-31 -0.5 0.0"/>
      <geometry>
        <mesh filename="package://stickbot_generated_urdf/meshes/tubepar_19z_prt.stl" scale="0.001 0.001 0.001"/>
      </geometry>
    </collision>
    <inertial>
      <origin rpy="0 0 0" xyz="2.01948391737e-31 -0.25 0.0"/>
      <mass value="0.2022237879860671"/>
      <inertia ixx="0.00423586331341" ixy="0.0" ixz="0.0" iyy="4.57355090629e-05" iyz="0.0" izz="0.00423586336174"/>
    </inertial>
  </link>
  <gazebo reference="tubepar_19Z_0">
    <selfCollide>True</selfCollide>
    <material>Gazebo/Grey</material>
    <mu1>0.05</mu1>
    <mu2>0.05</mu2>
    <kp>10000000</kp>
    <kd>1</kd>
    <minDepth>0.0005</minDepth>
    <maxVel>100</maxVel>
  </gazebo>
  <link name="hebi_x8_16_12Z_0">
    <visual>
      <origin rpy="0 0 0" xyz="-2.72157547031e-32 -1.40835994225e-18 0.023"/>
      <geometry>
        <mesh filename="package://stickbot_generated_urdf/meshes/hebi_x8_16_12z_prt.stl" scale="0.001 0.001 0.001"/>
      </geometry>
    </visual>
    <collision>
      <origin rpy="0 0 0" xyz="-2.72157547031e-32 -1.40835994225e-18 0.023"/>
      <geometry>
        <mesh filename="package://stickbot_generated_urdf/meshes/hebi_x8_16_12z_prt.stl" scale="0.001 0.001 0.001"/>
      </geometry>
    </collision>
    <inertial>
      <origin rpy="0 0 0" xyz="0.014563817146 0.00162514634779 0.0219127754611"/>
      <mass value="5.000268491400921"/>
      <inertia ixx="0.00252497997304" ixy="-0.000307494501523" ixz="2.34381592723e-05" iyy="0.00412897878772" iyz="6.0494430943e-06" izz="0.0050506140471"/>
    </inertial>
  </link>
  <gazebo reference="hebi_x8_16_12Z_0">
    <selfCollide>True</selfCollide>
    <material>Gazebo/Red</material>
    <mu1>0.1</mu1>
    <mu2>0.1</mu2>
    <kp>10000000</kp>
    <kd>1</kd>
    <minDepth>0.001</minDepth>
    <maxVel>100</maxVel>
    <sensor name="Arm/Shoulder/imu_sensor" type="imu">
      <always_on>true</always_on>
      <update_rate>100</update_rate>
      <visualize>true</visualize>
      <plugin filename="libgazebo_ros_imu_sensor.so" name="imu_plugin">
        <topicName>/hebiros_gazebo_plugin/imu/Arm/Shoulder</topicName>
        <bodyName>Arm/Shoulder/imu_link</bodyName>
        <updateRateHZ>10.0</updateRateHZ>
        <gaussianNoise>0.0</gaussianNoise>
        <xyzOffset>0.025 0 0.003</xyzOffset>
        <rpyOffset>0 0 0</rpyOffset>
        <frameName>Arm/Shoulder/imu_link</frameName>
      </plugin>
      <pose>0 0 0 0 0 0</pose>
    </sensor>
  </gazebo>
  <link name="rplidar_a2_0">
    <visual>
      <origin rpy="0 0 0" xyz="5.79300502416e-24 3.54719253014e-40 1.91946740777e-38"/>
      <geometry>
        <mesh filename="package://stickbot_generated_urdf/meshes/rplidar_a2_asm.stl" scale="0.001 0.001 0.001"/>
      </geometry>
    </visual>
    <collision>
      <origin rpy="0 0 0" xyz="5.79300502416e-24 3.54719253014e-40 1.91946740777e-38"/>
      <geometry>
        <mesh filename="package://stickbot_generated_urdf/meshes/rplidar_a2_asm.stl" scale="0.001 0.001 0.001"/>
      </geometry>
    </collision>
    <inertial>
      <origin rpy="0 0 0" xyz="-0.000130340672722 -0.00136533102019 0.0205166626404"/>
      <mass value="0.18821621589950202"/>
      <inertia ixx="8.13361235458e-05" ixy="-2.24566593777e-07" ixz="7.5260897031e-09" iyy="7.83925013627e-05" iyz="2.44355055998e-06" izz="0.000134676697915"/>
    </inertial>
  </link>
  <gazebo reference="rplidar_a2_0">
    <selfCollide>True</selfCollide>
    <material>Gazebo/Black</material>
    <mu1>0.05</mu1>
    <mu2>0.05</mu2>
    <kp>10000000</kp>
    <kd>1</kd>
    <minDepth>0.0005</minDepth>
    <maxVel>100</maxVel>
  </gazebo>
  <link name="a_2038_02_17Z_0">
    <visual>
      <origin rpy="0 0 0" xyz="-3.69026236889e-34 1.11373125466e-19 6.40158474177e-51"/>
      <geometry>
        <mesh filename="package://stickbot_generated_urdf/meshes/a_2038_02_17z_prt.stl" scale="0.001 0.001 0.001"/>
      </geometry>
    </visual>
    <collision>
      <origin rpy="0 0 0" xyz="-3.69026236889e-34 1.11373125466e-19 6.40158474177e-51"/>
      <geometry>
        <mesh filename="package://stickbot_generated_urdf/meshes/a_2038_02_17z_prt.stl" scale="0.001 0.001 0.001"/>
      </geometry>
    </collision>
    <inertial>
      <origin rpy="0 0 0" xyz="0.0176052907699 1.11373125466e-19 0.0142788404199"/>
      <mass value="0.059108249978877175"/>
      <inertia ixx="2.3632587043e-05" ixy="0.0" ixz="-3.93131579939e-06" iyy="2.03298829586e-05" iyz="0.0" izz="2.72912531732e-05"/>
    </inertial>
  </link>
  <gazebo reference="a_2038_02_17Z_0">
    <selfCollide>True</selfCollide>
    <material>Gazebo/Black</material>
    <mu1>0.1</mu1>
    <mu2>0.1</mu2>
    <kp>10000000</kp>
    <kd>1</kd>
    <minDepth>0.0005</minDepth>
    <maxVel>100</maxVel>
  </gazebo>
  <link name="pm_2221_01_2_0">
    <visual>
      <origin rpy="0 0 0" xyz="3.25859931682e-66 2.64368984312e-34 -7.97872810003e-20"/>
      <geometry>
        <mesh filename="package://stickbot_generated_urdf/meshes/pm_2221_01_2_prt.stl" scale="0.001 0.001 0.001"/>
      </geometry>
    </visual>
    <collision>
      <origin rpy="0 0 0" xyz="3.25859931682e-66 2.64368984312e-34 -7.97872810003e-20"/>
      <geometry>
        <mesh filename="package://stickbot_generated_urdf/meshes/pm_2221_01_2_prt.stl" scale="0.001 0.001 0.001"/>
      </geometry>
    </collision>
    <inertial>
      <origin rpy="0 0 0" xyz="0.0135079945905 4.91007296113e-05 -7.97872810003e-20"/>
      <mass value="0.007793553528523309"/>
      <inertia ixx="1.38905229874e-07" ixy="5.90681572689e-09" ixz="0.0" iyy="7.98676471223e-07" iyz="0.0" izz="7.51799472482e-07"/>
    </inertial>
  </link>
  <gazebo reference="pm_2221_01_2_0">
    <selfCollide>True</selfCollide>
    <material>Gazebo/Grey</material>
    <mu1>0.05</mu1>
    <mu2>0.05</mu2>
    <kp>10000000</kp>
    <kd>1</kd>
    <minDepth>0.0005</minDepth>
    <maxVel>100</maxVel>
  </gazebo>
  <link name="pp_2074_08_0">
    <visual>
      <origin rpy="0 0 0" xyz="1.37817935453e-11 1.92220120108e-11 0.03175"/>
      <geometry>
        <mesh filename="package://stickbot_generated_urdf/meshes/pp_2074_08_prt.stl" scale="0.001 0.001 0.001"/>
      </geometry>
    </visual>
    <collision>
      <origin rpy="0 0 0" xyz="1.37817935453e-11 1.92220120108e-11 0.03175"/>
      <geometry>
        <mesh filename="package://stickbot_generated_urdf/meshes/pp_2074_08_prt.stl" scale="0.001 0.001 0.001"/>
      </geometry>
    </collision>
    <inertial>
      <origin rpy="0 0 0" xyz="-5.78048471727e-07 4.17627885456e-07 0.0190499354094"/>
      <mass value="0.7635860425050807"/>
      <inertia ixx="0.002680677325" ixy="0.0" ixz="0.0" iyy="0.00268067446492" iyz="0.0" izz="0.00527682335031"/>
    </inertial>
  </link>
  <gazebo reference="pp_2074_08_0">
    <selfCollide>True</selfCollide>
    <material>Gazebo/Black</material>
    <mu1>0.7</mu1>
    <mu2>0.7</mu2>
    <kp>1000000</kp>
    <kd>1</kd>
    <minDepth>0.001</minDepth>
    <maxVel>50</maxVel>
  </gazebo>
  <link name="hebi_x8_16_16Z_0">
    <visual>
      <origin rpy="0 0 0" xyz="-1.56191985342e-17 1.40700203333e-16 0.023"/>
      <geometry>
        <mesh filename="package://stickbot_generated_urdf/meshes/hebi_x8_16_16z_prt.stl" scale="0.001 0.001 0.001"/>
      </geometry>
    </visual>
    <collision>
      <origin rpy="0 0 0" xyz="-1.56191985342e-17 1.40700203333e-16 0.023"/>
      <geometry>
        <mesh filename="package://stickbot_generated_urdf/meshes/hebi_x8_16_16z_prt.stl" scale="0.001 0.001 0.001"/>
      </geometry>
    </collision>
    <inertial>
      <origin rpy="0 0 0" xyz="0.014563817146 0.00162514634779 0.0219127754611"/>
      <mass value="5.000268491400921"/>
      <inertia ixx="0.00252497997304" ixy="-0.000307494501523" ixz="2.34381592723e-05" iyy="0.00412897878772" iyz="6.0494430943e-06" izz="0.0050506140471"/>
    </inertial>
  </link>
  <gazebo reference="hebi_x8_16_16Z_0">
    <selfCollide>True</selfCollide>
    <material>Gazebo/Red</material>
    <mu1>0.1</mu1>
    <mu2>0.1</mu2>
    <kp>10000000</kp>
    <kd>1</kd>
    <minDepth>0.001</minDepth>
    <maxVel>100</maxVel>
    <sensor name="DiffDriveBase/RearLeft/imu_sensor" type="imu">
      <always_on>true</always_on>
      <update_rate>100</update_rate>
      <visualize>true</visualize>
      <plugin filename="libgazebo_ros_imu_sensor.so" name="imu_plugin">
        <topicName>/hebiros_gazebo_plugin/imu/DiffDriveBase/RearLeft</topicName>
        <bodyName>DiffDriveBase/RearLeft/imu_link</bodyName>
        <updateRateHZ>10.0</updateRateHZ>
        <gaussianNoise>0.0</gaussianNoise>
        <xyzOffset>0.025 0 0.003</xyzOffset>
        <rpyOffset>0 0 0</rpyOffset>
        <frameName>DiffDriveBase/RearLeft/imu_link</frameName>
      </plugin>
      <pose>0 0 0 0 0 0</pose>
    </sensor>
  </gazebo>
  <link name="a_2132_01_5Z_0">
    <visual>
      <origin rpy="0 0 0" xyz="1e-23 1e-23 1e-23"/>
      <geometry>
        <mesh filename="package://stickbot_generated_urdf/meshes/a_2132_01_5z_asm.stl" scale="0.001 0.001 0.001"/>
      </geometry>
    </visual>
    <collision>
      <origin rpy="0 0 0" xyz="1e-23 1e-23 1e-23"/>
      <geometry>
        <mesh filename="package://stickbot_generated_urdf/meshes/a_2132_01_5z_asm.stl" scale="0.001 0.001 0.001"/>
      </geometry>
    </collision>
    <inertial>
      <origin rpy="0 0 0" xyz="-0.00104257046574 -3.13779178833e-05 0.0205056292804"/>
      <mass value="7.508721473887056"/>
      <inertia ixx="0.116377534988" ixy="4.10977062061e-05" ixz="0.000493457266438" iyy="0.120778948593" iyz="0.000316792898742" izz="0.214005834039"/>
    </inertial>
  </link>
  <gazebo reference="a_2132_01_5Z_0">
    <selfCollide>True</selfCollide>
    <material>Gazebo/Grey</material>
    <mu1>0.1</mu1>
    <mu2>0.1</mu2>
    <kp>10000000</kp>
    <kd>1</kd>
    <minDepth>0.0005</minDepth>
    <maxVel>100</maxVel>
  </gazebo>
  <link name="hebi_x5_9_7Z_0">
    <visual>
      <origin rpy="0 0 0" xyz="-1.561251135e-19 -1.57950058741e-18 0.015"/>
      <geometry>
        <mesh filename="package://stickbot_generated_urdf/meshes/hebi_x5_9_7z_prt.stl" scale="0.001 0.001 0.001"/>
      </geometry>
    </visual>
    <collision>
      <origin rpy="0 0 0" xyz="-1.561251135e-19 -1.57950058741e-18 0.015"/>
      <geometry>
        <mesh filename="package://stickbot_generated_urdf/meshes/hebi_x5_9_7z_prt.stl" scale="0.001 0.001 0.001"/>
      </geometry>
    </collision>
    <inertial>
      <origin rpy="0 0 0" xyz="-0.0142019322139 -0.00151173442654 0.0150064707722"/>
      <mass value="0.3601223934133934"/>
      <inertia ixx="0.000149654657264" ixy="-2.029262623e-05" ixz="1.36324075072e-08" iyy="0.000259599603648" iyz="1.37817063293e-07" izz="0.000355190384437"/>
    </inertial>
  </link>
  <gazebo reference="hebi_x5_9_7Z_0">
    <selfCollide>True</selfCollide>
    <material>Gazebo/Red</material>
    <mu1>0.1</mu1>
    <mu2>0.1</mu2>
    <kp>10000000</kp>
    <kd>1</kd>
    <minDepth>0.001</minDepth>
    <maxVel>100</maxVel>
    <sensor name="Gripper/Spool/imu_sensor" type="imu">
      <always_on>true</always_on>
      <update_rate>100</update_rate>
      <visualize>true</visualize>
      <plugin filename="libgazebo_ros_imu_sensor.so" name="imu_plugin">
        <topicName>/hebiros_gazebo_plugin/imu/Gripper/Spool</topicName>
        <bodyName>Gripper/Spool/imu_link</bodyName>
        <updateRateHZ>10.0</updateRateHZ>
        <gaussianNoise>0.0</gaussianNoise>
        <xyzOffset>0.025 0 0.003</xyzOffset>
        <rpyOffset>0 0 0</rpyOffset>
        <frameName>Gripper/Spool/imu_link</frameName>
      </plugin>
      <pose>0 0 0 0 0 0</pose>
    </sensor>
  </gazebo>
  <link name="hebi_x8_16_2Z_0">
    <visual>
      <origin rpy="0 0 0" xyz="-1.56191985342e-17 -1.43516890971e-16 0.023"/>
      <geometry>
        <mesh filename="package://stickbot_generated_urdf/meshes/hebi_x8_16_2z_prt.stl" scale="0.001 0.001 0.001"/>
      </geometry>
    </visual>
    <collision>
      <origin rpy="0 0 0" xyz="-1.56191985342e-17 -1.43516890971e-16 0.023"/>
      <geometry>
        <mesh filename="package://stickbot_generated_urdf/meshes/hebi_x8_16_2z_prt.stl" scale="0.001 0.001 0.001"/>
      </geometry>
    </collision>
    <inertial>
      <origin rpy="0 0 0" xyz="0.014563817146 0.00162514634779 0.0219127754611"/>
      <mass value="5.000268491400921"/>
      <inertia ixx="0.00252497997304" ixy="-0.000307494501523" ixz="2.34381592723e-05" iyy="0.00412897878772" iyz="6.0494430943e-06" izz="0.0050506140471"/>
    </inertial>
  </link>
  <gazebo reference="hebi_x8_16_2Z_0">
    <selfCollide>True</selfCollide>
    <material>Gazebo/Red</material>
    <mu1>0.1</mu1>
    <mu2>0.1</mu2>
    <kp>10000000</kp>
    <kd>1</kd>
    <minDepth>0.001</minDepth>
    <maxVel>100</maxVel>
    <sensor name="DiffDriveBase/FrontLeft/imu_sensor" type="imu">
      <always_on>true</always_on>
      <update_rate>100</update_rate>
      <visualize>true</visualize>
      <plugin filename="libgazebo_ros_imu_sensor.so" name="imu_plugin">
        <topicName>/hebiros_gazebo_plugin/imu/DiffDriveBase/FrontLeft</topicName>
        <bodyName>DiffDriveBase/FrontLeft/imu_link</bodyName>
        <updateRateHZ>10.0</updateRateHZ>
        <gaussianNoise>0.0</gaussianNoise>
        <xyzOffset>0.025 0 0.003</xyzOffset>
        <rpyOffset>0 0 0</rpyOffset>
        <frameName>DiffDriveBase/FrontLeft/imu_link</frameName>
      </plugin>
      <pose>0 0 0 0 0 0</pose>
    </sensor>
  </gazebo>
  <link name="pm_2155_01_2">
    <visual>
      <origin rpy="0 0 0" xyz="-0.00099182129 -0.0071643037 -0.000236828"/>
      <geometry>
        <mesh filename="package://stickbot_generated_urdf/meshes/pm_2155_01_prt.stl" scale="0.001 0.001 0.001"/>
      </geometry>
    </visual>
    <collision>
      <origin rpy="0 0 0" xyz="-0.00099182129 -0.0071643037 -0.000236828"/>
      <geometry>
        <mesh filename="package://stickbot_generated_urdf/meshes/pm_2155_01_prt.stl" scale="0.001 0.001 0.001"/>
      </geometry>
    </collision>
    <inertial>
      <origin rpy="0 0 0" xyz="1.34037442318e-07 1.11051366582e-07 0.00499989583184"/>
      <mass value="0.052674179644478125"/>
      <inertia ixx="1.14786537077e-05" ixy="0.0" ixz="0.0" iyy="1.14786271535e-05" iyz="0.0" izz="2.18768701014e-05"/>
    </inertial>
  </link>
  <gazebo reference="pm_2155_01_2">
    <selfCollide>True</selfCollide>
    <material>Gazebo/Grey</material>
    <mu1>0.1</mu1>
    <mu2>0.1</mu2>
    <kp>10000000</kp>
    <kd>1</kd>
    <minDepth>0</minDepth>
    <maxVel>100</maxVel>
  </gazebo>
  <link name="a_2043_01_1">
    <visual>
      <origin rpy="0 0 0" xyz="4.67700711639e-17 9.38208807873e-16 0.0047752"/>
      <geometry>
        <mesh filename="package://stickbot_generated_urdf/meshes/a_2043_01_prt.stl" scale="0.001 0.001 0.001"/>
      </geometry>
    </visual>
    <collision>
      <origin rpy="0 0 0" xyz="4.67700711639e-17 9.38208807873e-16 0.0047752"/>
      <geometry>
        <mesh filename="package://stickbot_generated_urdf/meshes/a_2043_01_prt.stl" scale="0.001 0.001 0.001"/>
      </geometry>
    </collision>
    <inertial>
      <origin rpy="0 0 0" xyz="0.00139419949295 9.38208807873e-16 0.00184329510899"/>
      <mass value="0.06272938391183215"/>
      <inertia ixx="7.22571415296e-05" ixy="2.96268938105e-10" ixz="-5.68510520871e-08" iyy="1.34631068457e-05" iyz="0.0" izz="8.48613385518e-05"/>
    </inertial>
  </link>
  <gazebo reference="a_2043_01_1">
    <selfCollide>True</selfCollide>
    <material>Gazebo/Black</material>
    <mu1>0.1</mu1>
    <mu2>0.1</mu2>
    <kp>10000000</kp>
    <kd>1</kd>
    <minDepth>0.0005</minDepth>
    <maxVel>100</maxVel>
  </gazebo>
  <link name="a_2043_01_5">
    <visual>
      <origin rpy="0 0 0" xyz="-2.96792033927e-18 8.5557524961e-17 0.0047752"/>
      <geometry>
        <mesh filename="package://stickbot_generated_urdf/meshes/a_2043_01_prt.stl" scale="0.001 0.001 0.001"/>
      </geometry>
    </visual>
    <collision>
      <origin rpy="0 0 0" xyz="-2.96792033927e-18 8.5557524961e-17 0.0047752"/>
      <geometry>
        <mesh filename="package://stickbot_generated_urdf/meshes/a_2043_01_prt.stl" scale="0.001 0.001 0.001"/>
      </geometry>
    </collision>
    <inertial>
      <origin rpy="0 0 0" xyz="0.00139419949295 8.5557524961e-17 0.00184329510899"/>
      <mass value="0.06272938391183215"/>
      <inertia ixx="7.22571415296e-05" ixy="2.96268938105e-10" ixz="-5.68510520871e-08" iyy="1.34631068457e-05" iyz="0.0" izz="8.48613385518e-05"/>
    </inertial>
  </link>
  <gazebo reference="a_2043_01_5">
    <selfCollide>True</selfCollide>
    <material>Gazebo/Black</material>
    <mu1>0.1</mu1>
    <mu2>0.1</mu2>
    <kp>10000000</kp>
    <kd>1</kd>
    <minDepth>0.0005</minDepth>
    <maxVel>100</maxVel>
  </gazebo>
  <link name="pp_2084_01_0">
    <visual>
      <origin rpy="0 0 0" xyz="8.12402960042e-19 1.13335897886e-51 -2.90083261052e-35"/>
      <geometry>
        <mesh filename="package://stickbot_generated_urdf/meshes/pp_2084_01_prt.stl" scale="0.001 0.001 0.001"/>
      </geometry>
    </visual>
    <collision>
      <origin rpy="0 0 0" xyz="8.12402960042e-19 1.13335897886e-51 -2.90083261052e-35"/>
      <geometry>
        <mesh filename="package://stickbot_generated_urdf/meshes/pp_2084_01_prt.stl" scale="0.001 0.001 0.001"/>
      </geometry>
    </collision>
    <inertial>
      <origin rpy="0 0 0" xyz="8.91874378258e-05 1.84543304597e-05 0.0105126561021"/>
      <mass value="0.6195229072329779"/>
      <inertia ixx="0.000303103586737" ixy="1.97180265393e-06" ixz="0.0" iyy="0.00207546071735" iyz="8.31436607584e-09" izz="0.00233313205399"/>
    </inertial>
  </link>
  <gazebo reference="pp_2084_01_0">
    <selfCollide>True</selfCollide>
    <material>Gazebo/Black</material>
    <mu1>0.1</mu1>
    <mu2>0.1</mu2>
    <kp>10000000</kp>
    <kd>1</kd>
    <minDepth>0.0005</minDepth>
    <maxVel>100</maxVel>
  </gazebo>
  <link name="a_2039_02_9Z_0">
    <visual>
      <origin rpy="0 0 0" xyz="0.014 3.4788792385e-16 0.02"/>
      <geometry>
        <mesh filename="package://stickbot_generated_urdf/meshes/a_2039_02_9z_prt.stl" scale="0.001 0.001 0.001"/>
      </geometry>
    </visual>
    <collision>
      <origin rpy="0 0 0" xyz="0.014 3.4788792385e-16 0.02"/>
      <geometry>
        <mesh filename="package://stickbot_generated_urdf/meshes/a_2039_02_9z_prt.stl" scale="0.001 0.001 0.001"/>
      </geometry>
    </collision>
    <inertial>
      <origin rpy="0 0 0" xyz="0.00256411047128 3.4788792385e-16 0.00833404763152"/>
      <mass value="0.08075605008850124"/>
      <inertia ixx="3.54766366127e-05" ixy="0.0" ixz="-8.29679742245e-06" iyy="3.7139980371e-05" iyz="0.0" izz="5.23238184568e-05"/>
    </inertial>
  </link>
  <gazebo reference="a_2039_02_9Z_0">
    <selfCollide>True</selfCollide>
    <material>Gazebo/Black</material>
    <mu1>0.1</mu1>
    <mu2>0.1</mu2>
    <kp>10000000</kp>
    <kd>1</kd>
    <minDepth>0.0005</minDepth>
    <maxVel>100</maxVel>
  </gazebo>
  <link name="a_2043_01_3">
    <visual>
      <origin rpy="0 0 0" xyz="4.67700711639e-17 -9.37624014534e-16 0.0047752"/>
      <geometry>
        <mesh filename="package://stickbot_generated_urdf/meshes/a_2043_01_prt.stl" scale="0.001 0.001 0.001"/>
      </geometry>
    </visual>
    <collision>
      <origin rpy="0 0 0" xyz="4.67700711639e-17 -9.37624014534e-16 0.0047752"/>
      <geometry>
        <mesh filename="package://stickbot_generated_urdf/meshes/a_2043_01_prt.stl" scale="0.001 0.001 0.001"/>
      </geometry>
    </collision>
    <inertial>
      <origin rpy="0 0 0" xyz="0.00139419949295 -9.37624014534e-16 0.00184329510899"/>
      <mass value="0.06272938391183215"/>
      <inertia ixx="7.22571415296e-05" ixy="2.96268938105e-10" ixz="-5.68510520871e-08" iyy="1.34631068457e-05" iyz="0.0" izz="8.48613385518e-05"/>
    </inertial>
  </link>
  <gazebo reference="a_2043_01_3">
    <selfCollide>True</selfCollide>
    <material>Gazebo/Black</material>
    <mu1>0.1</mu1>
    <mu2>0.1</mu2>
    <kp>10000000</kp>
    <kd>1</kd>
    <minDepth>0.0005</minDepth>
    <maxVel>100</maxVel>
  </gazebo>
  <link name="tubepar_4Z_0">
    <visual>
      <origin rpy="0 0 0" xyz="-2.18952885051e-47 -0.25 -1.61232339545e-23"/>
      <geometry>
        <mesh filename="package://stickbot_generated_urdf/meshes/tubepar_4z_prt.stl" scale="0.001 0.001 0.001"/>
      </geometry>
    </visual>
    <collision>
      <origin rpy="0 0 0" xyz="-2.18952885051e-47 -0.25 -1.61232339545e-23"/>
      <geometry>
        <mesh filename="package://stickbot_generated_urdf/meshes/tubepar_4z_prt.stl" scale="0.001 0.001 0.001"/>
      </geometry>
    </collision>
    <inertial>
      <origin rpy="0 0 0" xyz="-2.18952885051e-47 -0.125 -1.61232339545e-23"/>
      <mass value="0.10111189399303355"/>
      <inertia ixx="0.000538058313062" ixy="0.0" ixz="0.0" iyy="2.28677545314e-05" iyz="0.0" izz="0.00053805833723"/>
    </inertial>
  </link>
  <gazebo reference="tubepar_4Z_0">
    <selfCollide>True</selfCollide>
    <material>Gazebo/Grey</material>
    <mu1>0.05</mu1>
    <mu2>0.05</mu2>
    <kp>10000000</kp>
    <kd>1</kd>
    <minDepth>0.0005</minDepth>
    <maxVel>100</maxVel>
  </gazebo>
  <link name="a_2089_01_14Z_0">
    <visual>
      <origin rpy="0 0 0" xyz="-0.014 -1.07158121718e-18 -0.0175"/>
      <geometry>
        <mesh filename="package://stickbot_generated_urdf/meshes/a_2089_01_14z_prt.stl" scale="0.001 0.001 0.001"/>
      </geometry>
    </visual>
    <collision>
      <origin rpy="0 0 0" xyz="-0.014 -1.07158121718e-18 -0.0175"/>
      <geometry>
        <mesh filename="package://stickbot_generated_urdf/meshes/a_2089_01_14z_prt.stl" scale="0.001 0.001 0.001"/>
      </geometry>
    </collision>
    <inertial>
      <origin rpy="0 0 0" xyz="-0.0141834319891 1.2390345004e-07 -0.00675469816879"/>
      <mass value="0.13694950430241026"/>
      <inertia ixx="6.44476746049e-05" ixy="0.0" ixz="2.64849744516e-08" iyy="8.71842240473e-05" iyz="0.0" izz="0.000115762185767"/>
    </inertial>
  </link>
  <gazebo reference="a_2089_01_14Z_0">
    <selfCollide>True</selfCollide>
    <material>Gazebo/Grey</material>
    <mu1>0.1</mu1>
    <mu2>0.1</mu2>
    <kp>10000000</kp>
    <kd>1</kd>
    <minDepth>0.0005</minDepth>
    <maxVel>100</maxVel>
  </gazebo>
  <link name="hebi_x8_16_20Z_0">
    <visual>
      <origin rpy="0 0 0" xyz="-1.38777827631e-17 -3.7137370742e-32 0.023"/>
      <geometry>
        <mesh filename="package://stickbot_generated_urdf/meshes/hebi_x8_16_20z_prt.stl" scale="0.001 0.001 0.001"/>
      </geometry>
    </visual>
    <collision>
      <origin rpy="0 0 0" xyz="-1.38777827631e-17 -3.7137370742e-32 0.023"/>
      <geometry>
        <mesh filename="package://stickbot_generated_urdf/meshes/hebi_x8_16_20z_prt.stl" scale="0.001 0.001 0.001"/>
      </geometry>
    </collision>
    <inertial>
      <origin rpy="0 0 0" xyz="0.014563817146 0.00162514634779 0.0219127754611"/>
      <mass value="5.000268491400921"/>
      <inertia ixx="0.00252497997304" ixy="-0.000307494501523" ixz="2.34381592723e-05" iyy="0.00412897878772" iyz="6.0494430943e-06" izz="0.0050506140471"/>
    </inertial>
  </link>
  <gazebo reference="hebi_x8_16_20Z_0">
    <selfCollide>True</selfCollide>
    <material>Gazebo/Red</material>
    <mu1>0.1</mu1>
    <mu2>0.1</mu2>
    <kp>10000000</kp>
    <kd>1</kd>
    <minDepth>0.001</minDepth>
    <maxVel>100</maxVel>
    <sensor name="Turret/Base/imu_sensor" type="imu">
      <always_on>true</always_on>
      <update_rate>100</update_rate>
      <visualize>true</visualize>
      <plugin filename="libgazebo_ros_imu_sensor.so" name="imu_plugin">
        <topicName>/hebiros_gazebo_plugin/imu/Turret/Base</topicName>
        <bodyName>Turret/Base/imu_link</bodyName>
        <updateRateHZ>10.0</updateRateHZ>
        <gaussianNoise>0.0</gaussianNoise>
        <xyzOffset>0.025 0 0.003</xyzOffset>
        <rpyOffset>0 0 0</rpyOffset>
        <frameName>Turret/Base/imu_link</frameName>
      </plugin>
      <pose>0 0 0 0 0 0</pose>
    </sensor>
  </gazebo>
  <!--HEBI-ROS Gazebo Plugin-->
  <gazebo>
    <plugin filename="libhebi_gazebo_plugin.so" name="hebi_gazebo_plugin"  />
  </gazebo>
</robot>
